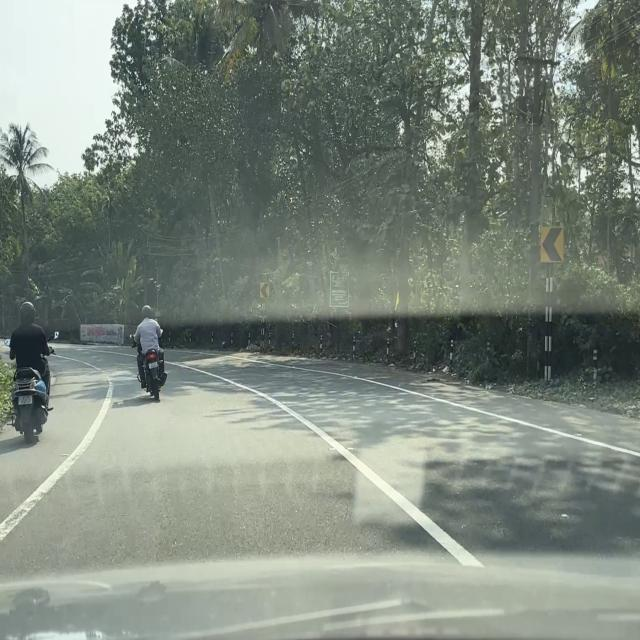TURN_LEFT: (540, 225, 564, 263), (260, 282, 269, 299)
